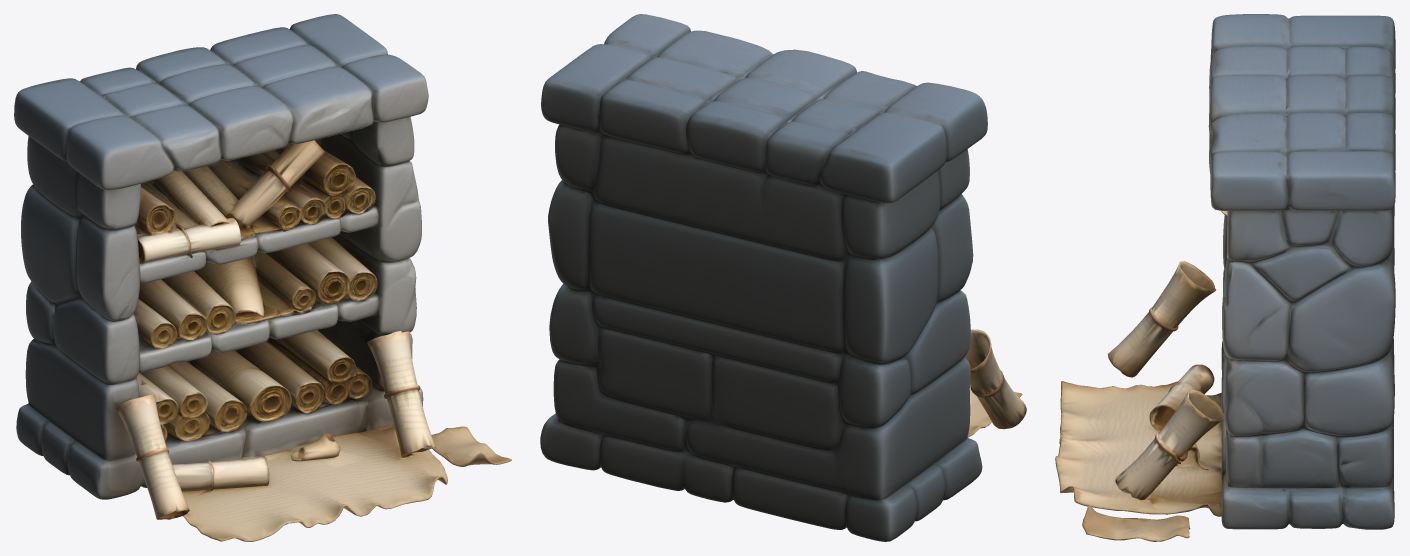
The model's file is scrollshelf.glb.
The picture shows the model from 3 angles, left to right: view 1: azimuth 30°, elevation 25°; view 2: azimuth 150°, elevation 25°; view 3: azimuth 270°, elevation 25°; orthographic projection. The views are drawn at different scales.
Visible parts, largest first — view 1: node_0; view 2: node_0; view 3: node_0.
Boxes of the visible parts, left/top/right/bottom form: node_0: left=14, top=14, right=511, bottom=541; node_0: left=540, top=14, right=1026, bottom=541; node_0: left=1055, top=14, right=1395, bottom=541.
Size of the model in its own units: 0.757 by 0.7398 by 0.6313.
1 material, 1 textured.
